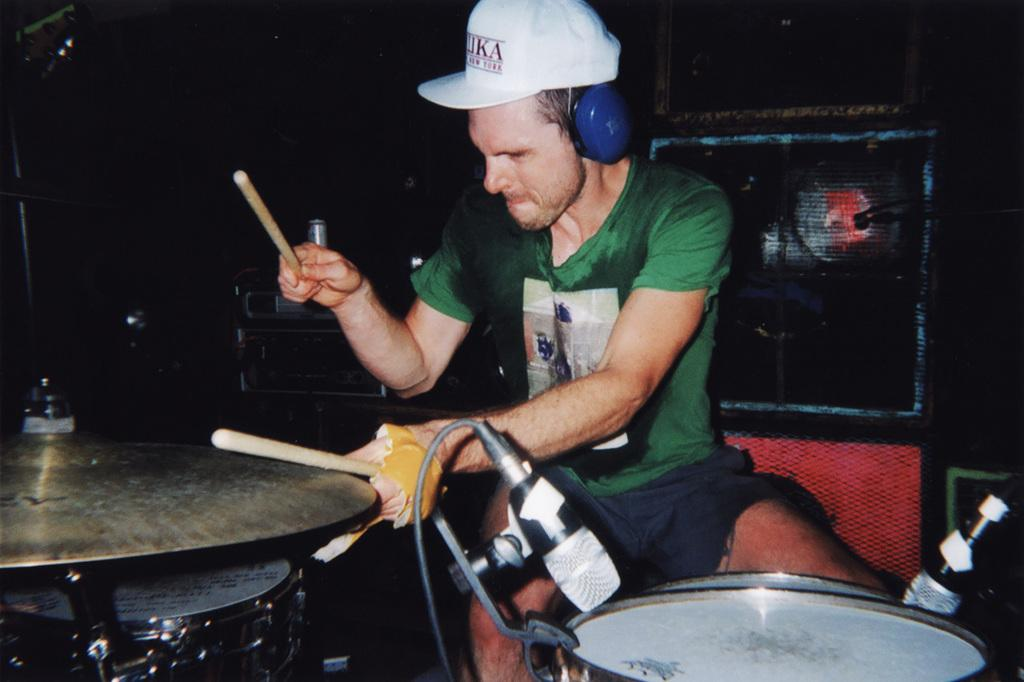Hat: (418, 0, 622, 110)
